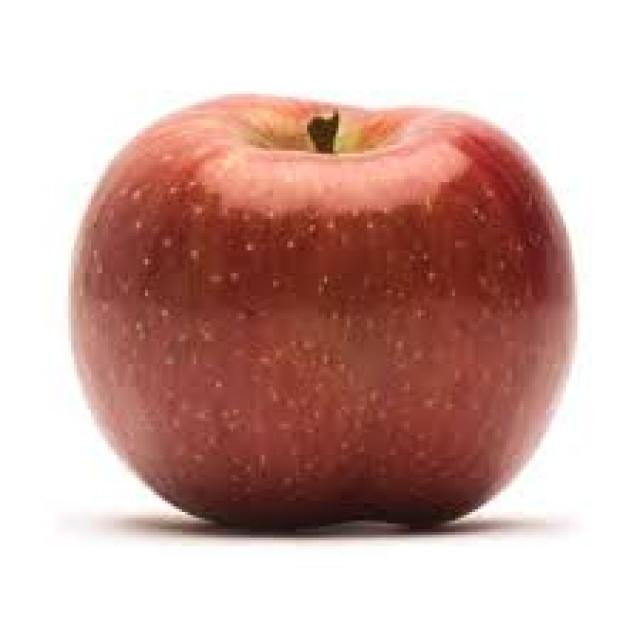Apple: (70, 90, 574, 527)
